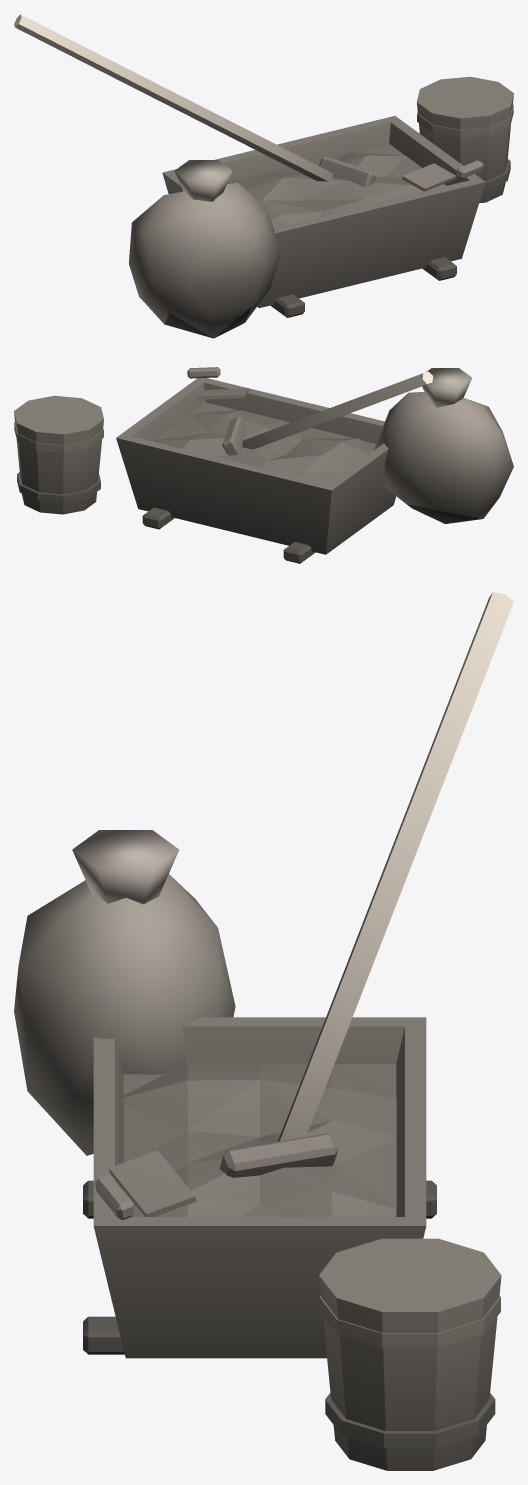
File: SM_VK_Prop_MortarTub.fbx
3 renders of one model, top to bottom at view 1: azimuth 30°, elevation 25°; view 2: azimuth 150°, elevation 25°; view 3: azimuth 270°, elevation 25°, orthographic. The views are drawn at different scales.
Parts seen in each view (by area): view 1: SM_VK_Prop_MortarTub.001; view 2: SM_VK_Prop_MortarTub.001; view 3: SM_VK_Prop_MortarTub.001.
Boxes of the visible parts, box(x1,y1,x2,y2) form: SM_VK_Prop_MortarTub.001: box(14, 14, 513, 338); SM_VK_Prop_MortarTub.001: box(14, 367, 513, 563); SM_VK_Prop_MortarTub.001: box(14, 592, 513, 1470).
Size of the model in its own units: 1.85 by 0.9734 by 0.9315.
